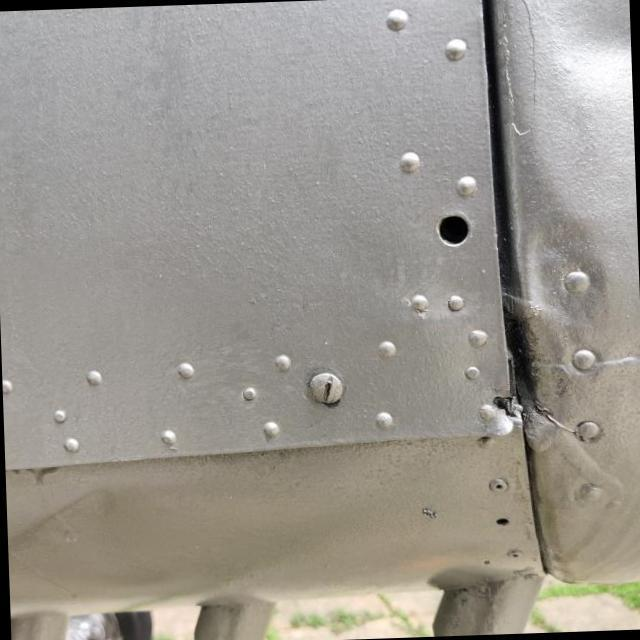Missing Fastener: (436, 213, 468, 244)
